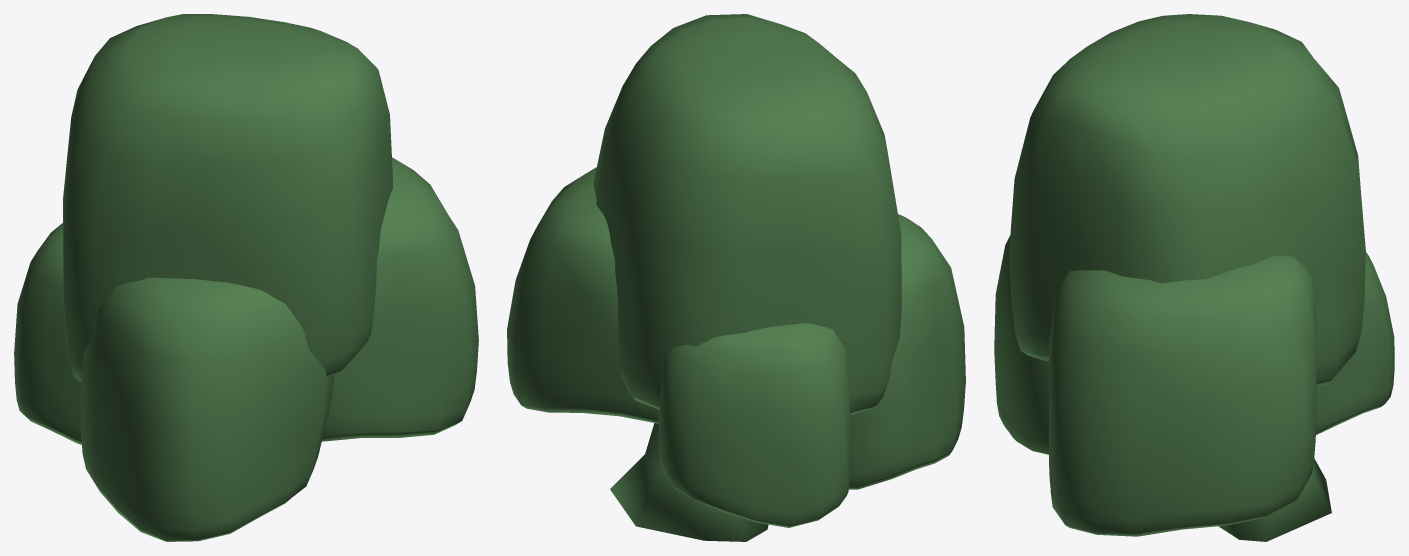
File: bush3-compressed.glb
The picture shows the model from 3 angles, left to right: view 1: azimuth 30°, elevation 25°; view 2: azimuth 150°, elevation 25°; view 3: azimuth 270°, elevation 25°; orthographic projection. The views are drawn at different scales.
Visible parts, largest first — view 1: bush3; view 2: bush3; view 3: bush3.
Part boxes in pixels (x1,y1,x2,y2): bush3: (14,14,478,541); bush3: (507,14,965,541); bush3: (994,14,1394,541).
Size of the model in its own units: 1.06 by 1.2 by 0.9773.
